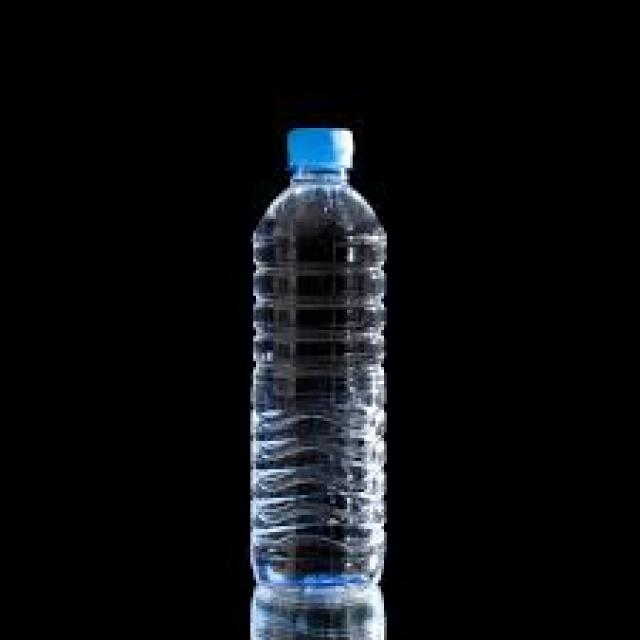plastic cup: (251, 129, 386, 639)
